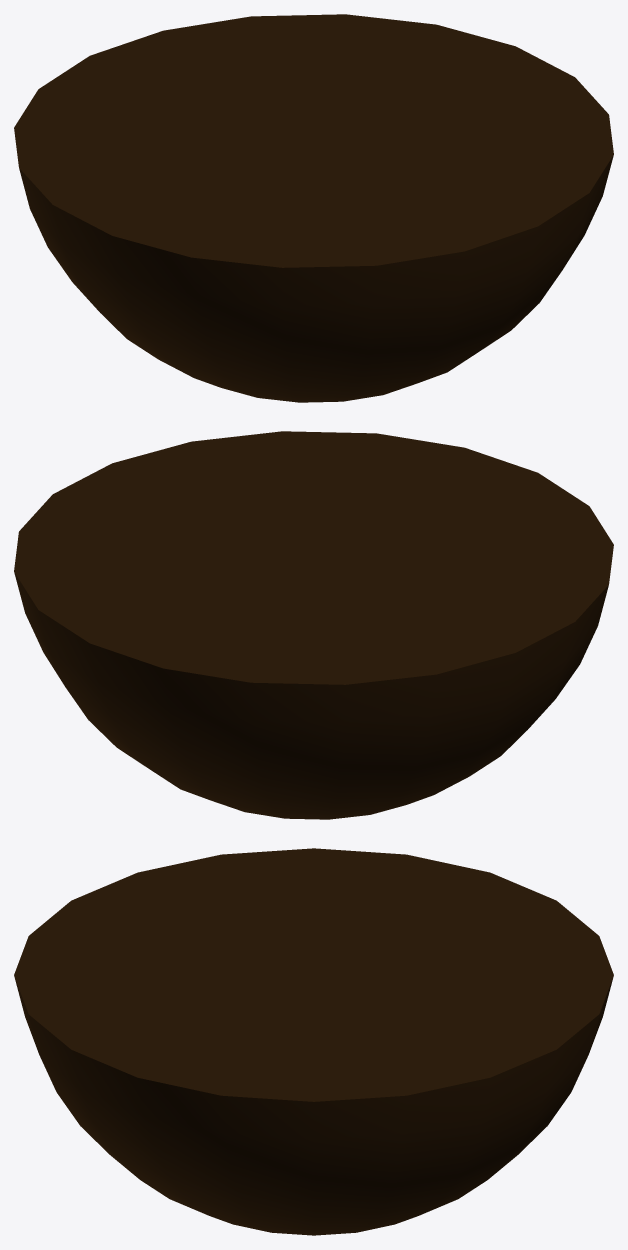
The model's file is Kahve_Fincan_Ic.fbx.
3 renders of one model, top to bottom at view 1: azimuth 30°, elevation 25°; view 2: azimuth 150°, elevation 25°; view 3: azimuth 270°, elevation 25°, orthographic.
Parts seen in each view (by area): view 1: pSphere1; view 2: pSphere1; view 3: pSphere1.
Part boxes in pixels (x1,y1,x2,y2): pSphere1: (14, 14, 613, 402); pSphere1: (14, 431, 613, 819); pSphere1: (14, 848, 613, 1235).
Bounding box in the file's own units: 8.83 × 3.77 × 8.83.
